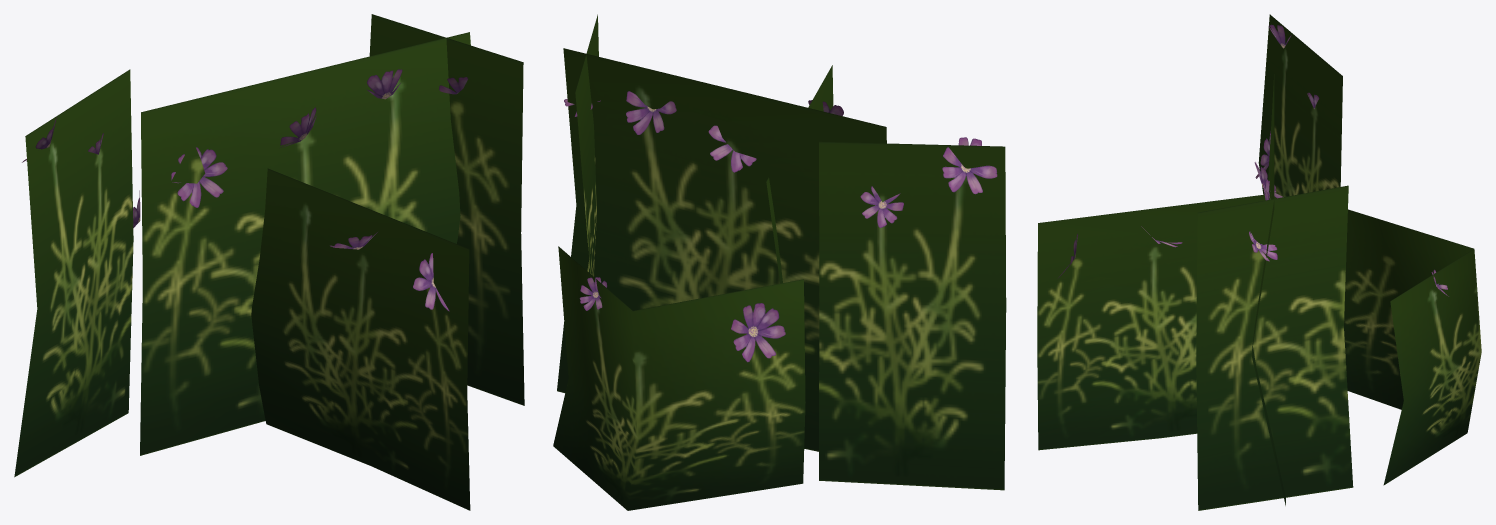
File: grass_02.fbx
3 renders of one model, left to right at view 1: azimuth 30°, elevation 25°; view 2: azimuth 150°, elevation 25°; view 3: azimuth 270°, elevation 25°, orthographic. The views are drawn at different scales.
Visible parts, largest first — view 1: polySurface154; view 2: polySurface154; view 3: polySurface154.
Part boxes in pixels (x1=…): polySurface154: x1=14, y1=14, x2=524, y2=510; polySurface154: x1=553, y1=14, x2=1006, y2=510; polySurface154: x1=1037, y1=14, x2=1481, y2=510.
Size of the model in its own units: 1.26 by 0.9389 by 1.2.
